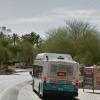Bus: (29, 50, 84, 98)
